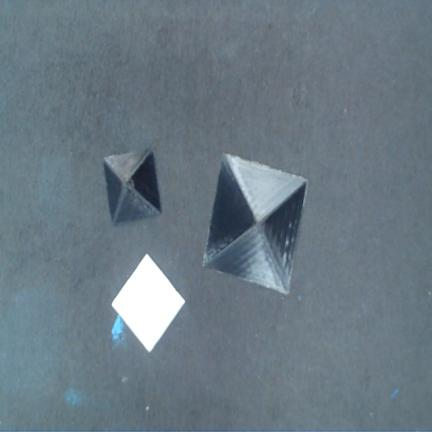Piramide: (202, 154, 307, 295), (112, 255, 186, 353), (103, 149, 161, 223)
